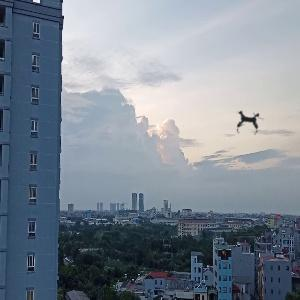drone: (224, 95, 278, 149)
